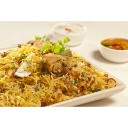briyani: (2, 42, 119, 100)
